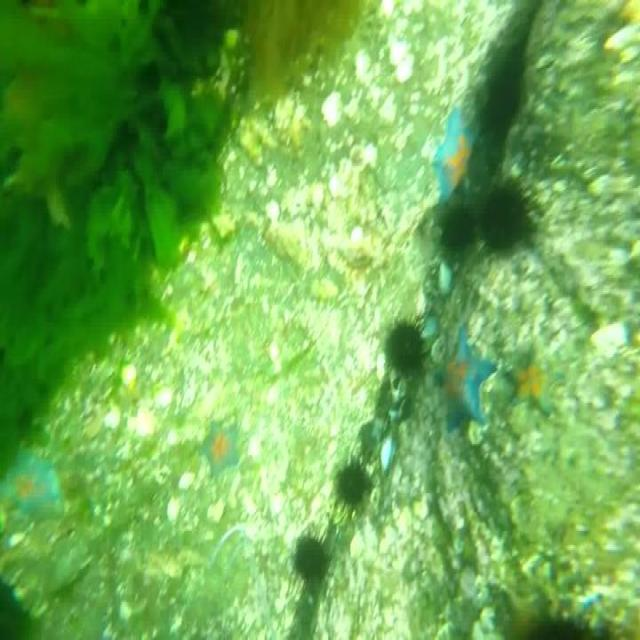echinus: (482, 176, 538, 252), (490, 49, 524, 117), (388, 319, 427, 378), (334, 455, 372, 512), (441, 202, 478, 256), (514, 618, 602, 640), (294, 534, 326, 588)
scallop: (389, 43, 415, 79), (323, 92, 342, 128)
starfish: (433, 326, 497, 438), (0, 447, 64, 520), (434, 111, 482, 207), (506, 342, 560, 412), (200, 418, 241, 476)
